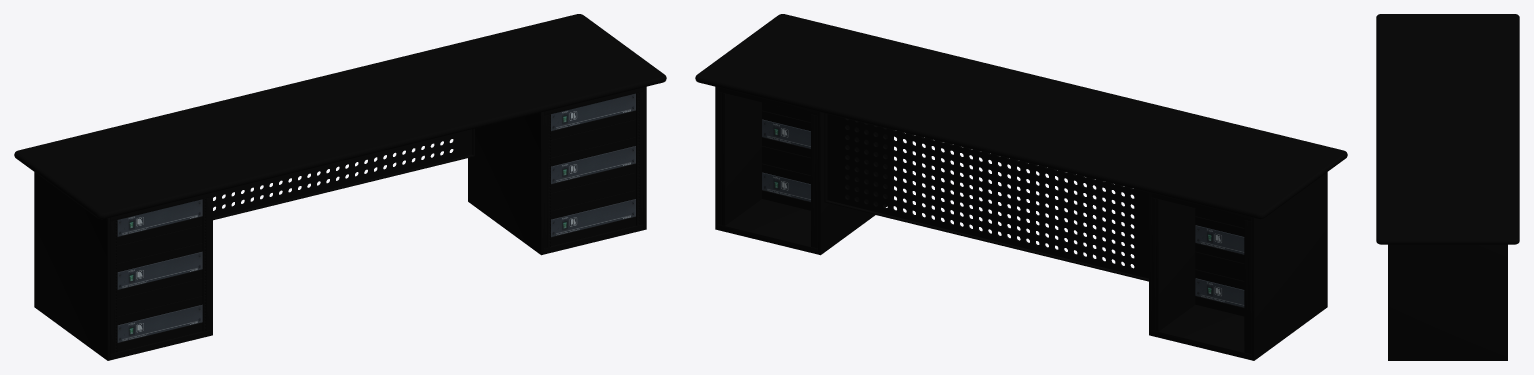
The model's file is table.FBX.
The picture shows the model from 3 angles, left to right: view 1: azimuth 30°, elevation 25°; view 2: azimuth 150°, elevation 25°; view 3: azimuth 270°, elevation 25°; orthographic projection. The views are drawn at different scales.
Parts seen in each view (by area): view 1: Rectangle07, Rectangle01, Rectangle47, Rectangle16, Rectangle22, Rectangle25, Rectangle19, Rectangle23, Rectangle59, Rectangle55, Rectangle61, Rectangle58 (+24 smaller); view 2: Rectangle07, Rectangle16, Rectangle01, Rectangle46, Rectangle64, Rectangle02, Rectangle48, Rectangle47, Rectangle15, Rectangle22, Rectangle25, Rectangle23 (+10 smaller); view 3: Rectangle07, Rectangle49.
Part boxes in pixels (left/top/right/bottom): Rectangle07: left=14, top=14, right=666, bottom=219; Rectangle01: left=34, top=172, right=110, bottom=360; Rectangle47: left=468, top=111, right=543, bottom=255; Rectangle16: left=213, top=129, right=472, bottom=217; Rectangle22: left=117, top=251, right=202, bottom=289; Rectangle25: left=117, top=304, right=202, bottom=342; Rectangle19: left=117, top=225, right=202, bottom=263; Rectangle23: left=117, top=278, right=202, bottom=316; Rectangle59: left=551, top=172, right=635, bottom=210; Rectangle55: left=551, top=119, right=635, bottom=157; Rectangle61: left=551, top=199, right=635, bottom=237; Rectangle58: left=551, top=146, right=635, bottom=183; Rectangle07: left=695, top=14, right=1347, bottom=219; Rectangle16: left=827, top=114, right=1148, bottom=278; Rectangle01: left=1251, top=172, right=1327, bottom=360; Rectangle46: left=1155, top=198, right=1195, bottom=331; Rectangle64: left=722, top=92, right=761, bottom=225; Rectangle02: left=1151, top=304, right=1251, bottom=360; Rectangle48: left=718, top=199, right=817, bottom=254; Rectangle47: left=818, top=111, right=893, bottom=255; Rectangle15: left=824, top=113, right=1148, bottom=281; Rectangle22: left=1195, top=225, right=1244, bottom=254; Rectangle25: left=1195, top=278, right=1244, bottom=307; Rectangle23: left=1195, top=252, right=1244, bottom=280; Rectangle07: left=1376, top=14, right=1519, bottom=244; Rectangle49: left=1388, top=244, right=1507, bottom=360.
Size of the model in its own units: 3000 by 780 by 800.
3 materials, 1 textured.
